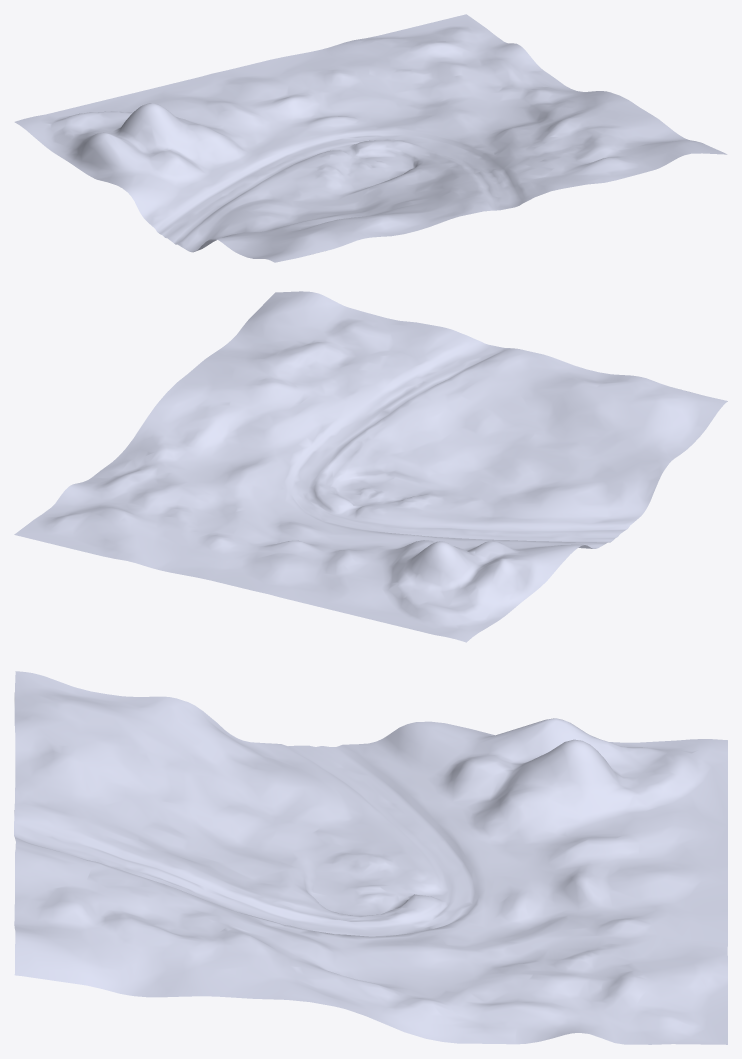
Rendered from landscape.obj.
The picture shows the model from 3 angles, top to bottom: view 1: azimuth 30°, elevation 25°; view 2: azimuth 150°, elevation 25°; view 3: azimuth 270°, elevation 25°; orthographic projection. The views are drawn at different scales.
Visible parts, largest first — view 1: Plane.001_Snow.002; view 2: Plane.001_Snow.002; view 3: Plane.001_Snow.002.
Boxes of the visible parts, <box> form: Plane.001_Snow.002: <box>14,14,727,262</box>; Plane.001_Snow.002: <box>14,291,727,642</box>; Plane.001_Snow.002: <box>14,671,727,1044</box>.
Size of the model in its own units: 200 by 26.75 by 200.
